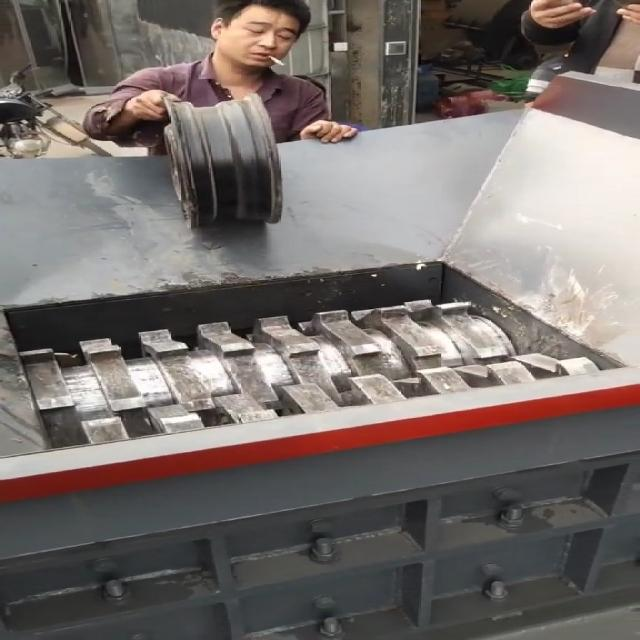Broyeur: (0, 261, 633, 457)
